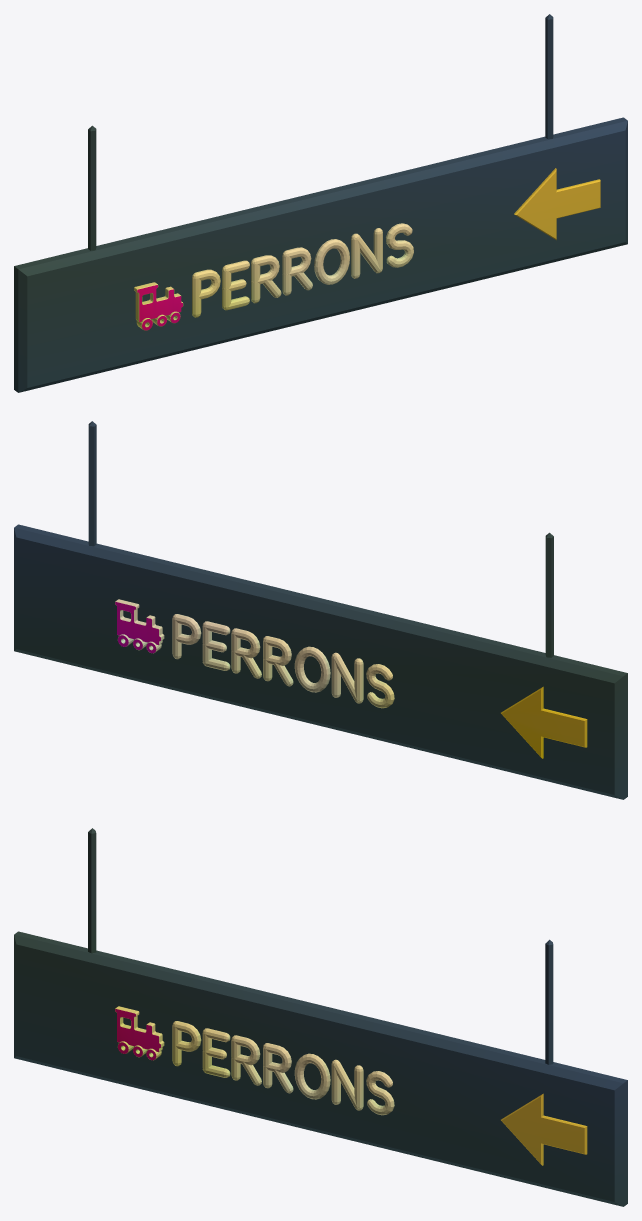
File: GS_DirectionSign.glb
The picture shows the model from 3 angles, top to bottom: view 1: azimuth 30°, elevation 25°; view 2: azimuth 150°, elevation 25°; view 3: azimuth 330°, elevation 25°; orthographic projection.
Parts seen in each view (by area): view 1: GS_DirectionSign, Sign_Direction_Text, Sign_Direction_Icon; view 2: GS_DirectionSign, Sign_Direction_Back_Text, Sign_Direction_Back_Icon; view 3: GS_DirectionSign, Sign_Direction_Text, Sign_Direction_Icon.
Part boxes in pixels (left/top/right/bottom): GS_DirectionSign: left=14, top=14, right=627, bottom=392; Sign_Direction_Text: left=192, top=223, right=413, bottom=317; Sign_Direction_Icon: left=134, top=282, right=183, bottom=330; GS_DirectionSign: left=14, top=421, right=627, bottom=799; Sign_Direction_Back_Text: left=172, top=614, right=394, bottom=708; Sign_Direction_Back_Icon: left=115, top=599, right=164, bottom=653; GS_DirectionSign: left=14, top=828, right=627, bottom=1206; Sign_Direction_Text: left=172, top=1021, right=394, bottom=1115; Sign_Direction_Icon: left=115, top=1006, right=164, bottom=1060.
Size of the model in its own units: 3.2 by 1.24 by 0.22.
